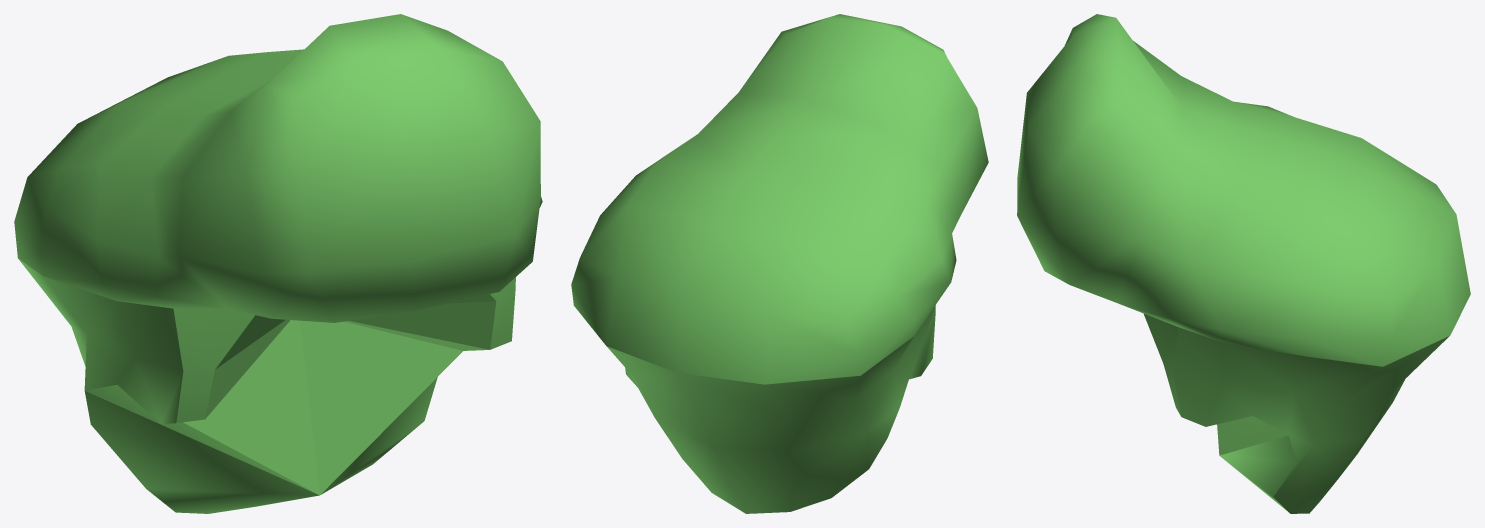
Rendered from Male_Hairs_07_v4.fbx.
3 renders of one model, left to right at view 1: azimuth 30°, elevation 25°; view 2: azimuth 150°, elevation 25°; view 3: azimuth 270°, elevation 25°, orthographic. The views are drawn at different scales.
Visible parts, largest first — view 1: Male_Hairs_07_v4; view 2: Male_Hairs_07_v4; view 3: Male_Hairs_07_v4.
Boxes of the visible parts, x1=… form: Male_Hairs_07_v4: x1=14, y1=14, x2=542, y2=513; Male_Hairs_07_v4: x1=571, y1=14, x2=988, y2=513; Male_Hairs_07_v4: x1=1017, y1=14, x2=1470, y2=513.
Bounding box in the file's own units: 67.67 × 85.55 × 76.11.
